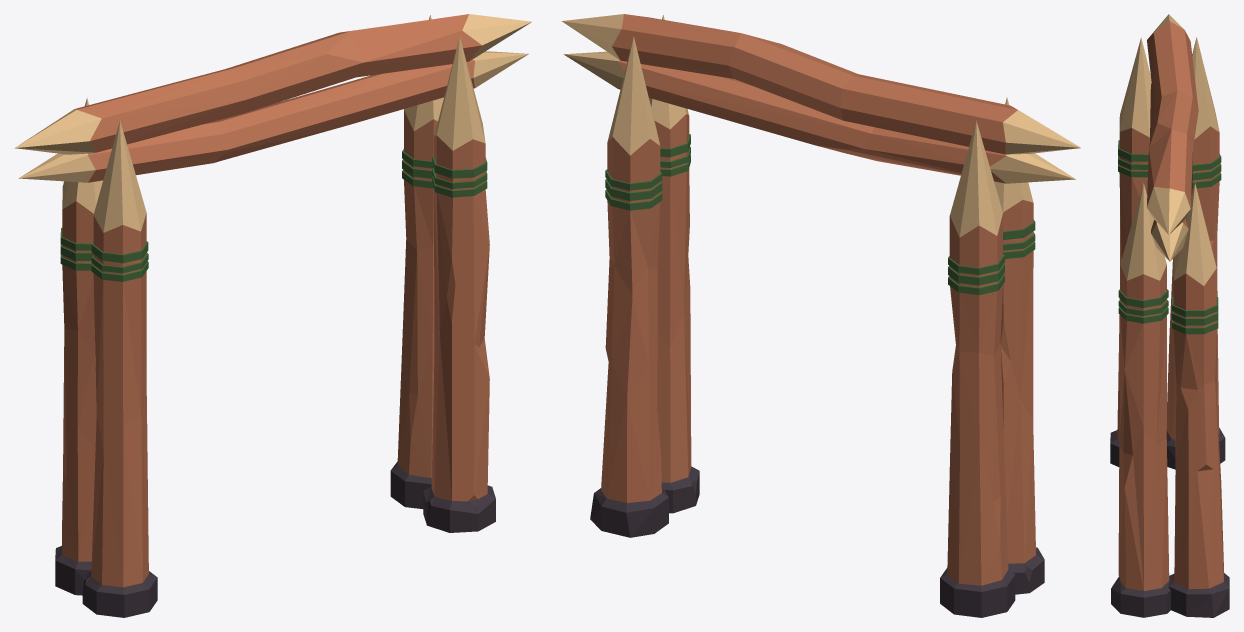
File: Gate.fbx
3 renders of one model, left to right at view 1: azimuth 30°, elevation 25°; view 2: azimuth 150°, elevation 25°; view 3: azimuth 270°, elevation 25°, orthographic. The views are drawn at different scales.
Visible parts, largest first — view 1: Gate; view 2: Gate; view 3: Gate.
Boxes of the visible parts, bbox=[...] form: Gate: bbox=[14, 14, 531, 617]; Gate: bbox=[561, 14, 1080, 617]; Gate: bbox=[1110, 14, 1229, 617].
Size of the model in its own units: 3.55 by 3.26 by 0.812.
